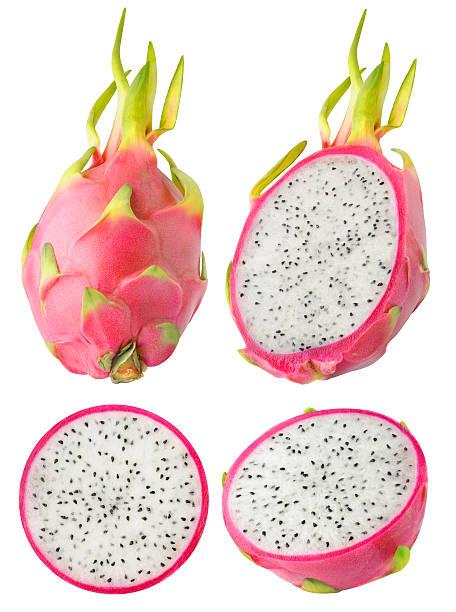dragon fruit: (223, 0, 437, 399), (19, 0, 214, 395), (214, 402, 439, 608), (7, 399, 215, 609)
